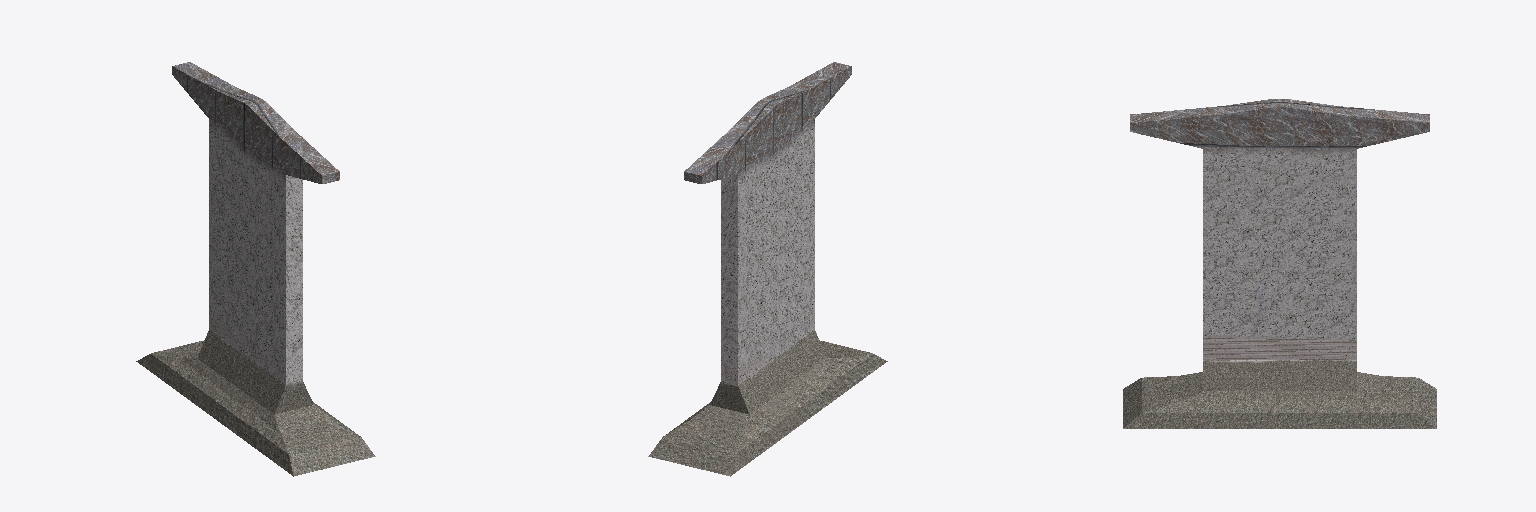
The picture shows the model from 3 angles: view 1: azimuth 30°, elevation 25°; view 2: azimuth 150°, elevation 25°; view 3: azimuth 270°, elevation 25°; orthographic projection.
Parts seen in each view (by area): view 1: Cube_Cube.001; view 2: Cube_Cube.001; view 3: Cube_Cube.001.
Part boxes in pixels (x1,y1,x2,y2): Cube_Cube.001: (136,62,375,476); Cube_Cube.001: (648,62,887,476); Cube_Cube.001: (1123,99,1436,428).
Size of the model in its own units: 2.12 by 7.57 by 7.05.
Materials: 1 (1 with a texture image).